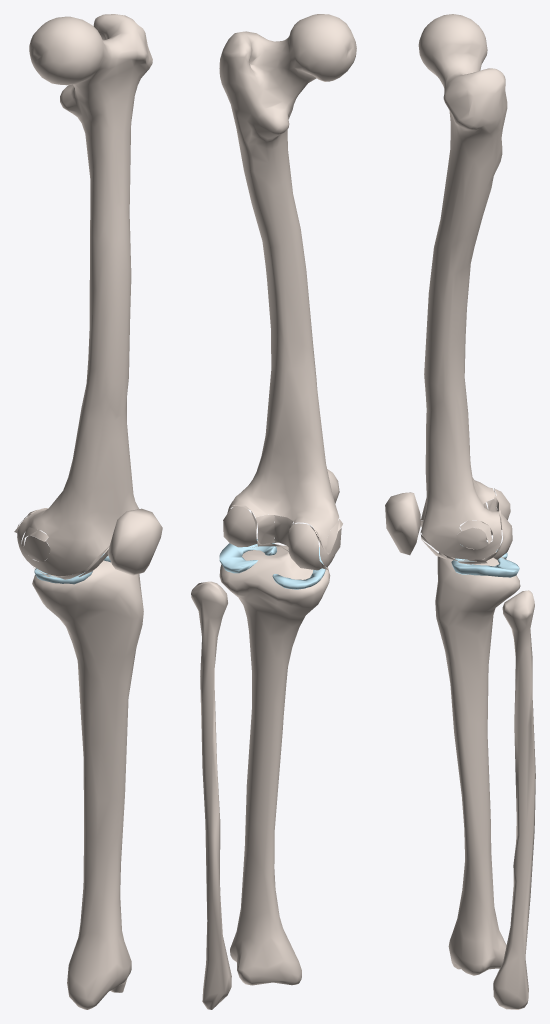
File: vh_f_knee_l.glb
The picture shows the model from 3 angles, left to right: view 1: azimuth 30°, elevation 25°; view 2: azimuth 150°, elevation 25°; view 3: azimuth 270°, elevation 25°; orthographic projection. The views are drawn at different scales.
Visible parts, largest first — view 1: VH_F_femur_L, VH_F_tibia_L, VH_F_patella_L, VH_F_medial_perichondular_surface_L, VH_F_meniscus_L; view 2: VH_F_femur_L, VH_F_tibia_L, VH_F_fibula_L, VH_F_meniscus_L, VH_F_medial_condyle_of_left_femur_inf, VH_F_lateral_condyle_of_femur_inf_L, VH_F_anterior_cruciate_enthesis_L, VH_F_posterior_cruciate_enthesis_L; view 3: VH_F_femur_L, VH_F_tibia_L, VH_F_fibula_L, VH_F_patella_L, VH_F_meniscus_L, VH_F_lateral_perichondular_surface_L, VH_F_lateral_condyle_of_femur_inf_L.
Part boxes in pixels (x1,y1,x2,y2): VH_F_femur_L: (17,14,152,576); VH_F_tibia_L: (32,547,143,1009); VH_F_patella_L: (107,508,162,575); VH_F_medial_perichondular_surface_L: (24,535,50,561); VH_F_meniscus_L: (34,553,110,584); VH_F_femur_L: (219,14,356,567); VH_F_tibia_L: (219,545,330,985); VH_F_fibula_L: (191,581,231,1009); VH_F_meniscus_L: (219,539,326,589); VH_F_medial_condyle_of_left_femur_inf: (288,523,322,570); VH_F_lateral_condyle_of_femur_inf_L: (223,505,257,547); VH_F_anterior_cruciate_enthesis_L: (255,514,274,544); VH_F_posterior_cruciate_enthesis_L: (274,515,292,546); VH_F_femur_L: (418,14,507,559); VH_F_tibia_L: (435,547,520,975); VH_F_fibula_L: (493,590,535,1009); VH_F_patella_L: (385,492,420,555); VH_F_meniscus_L: (451,544,519,577); VH_F_lateral_perichondular_surface_L: (456,527,488,549); VH_F_lateral_condyle_of_femur_inf_L: (493,513,512,559).
Bounding box in the file's own units: 0.1014 × 0.772 × 0.1105.
